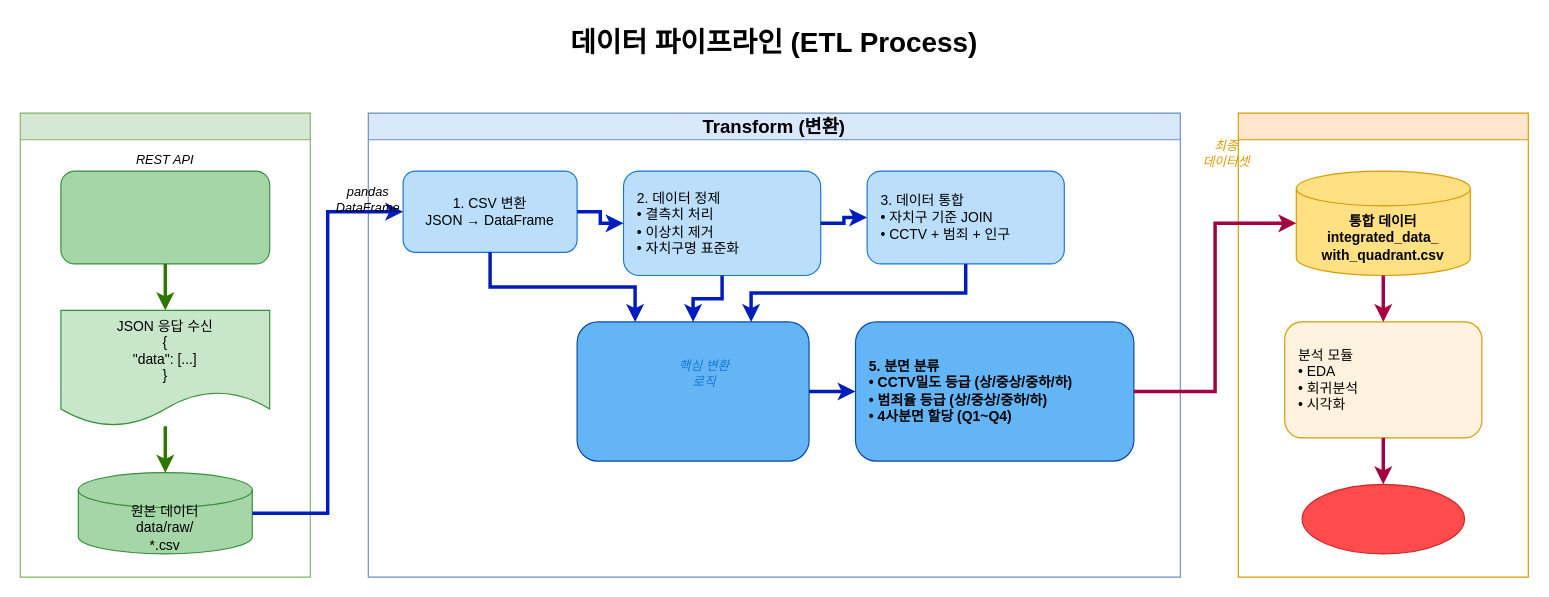
This 1549x597 diagram has some shape labels left out. The shapes that lost their labels are listed below. From the top down, each one's box as (x1, y1, x2, y2) in pixels, then its label:
(60, 170, 270, 264): API 호출 fetch_seoul_data.py
(19, 112, 310, 577): Extract (추출)
(1237, 112, 1528, 577): Load (적재)
(576, 321, 809, 461): 4. 파생 변수 생성 • 인구당 CCTV • 인구당 범죄율 • CCTV 유형별 비율 • 범죄 유형별 비율
(1301, 483, 1464, 554): 대시보드 Streamlit App
